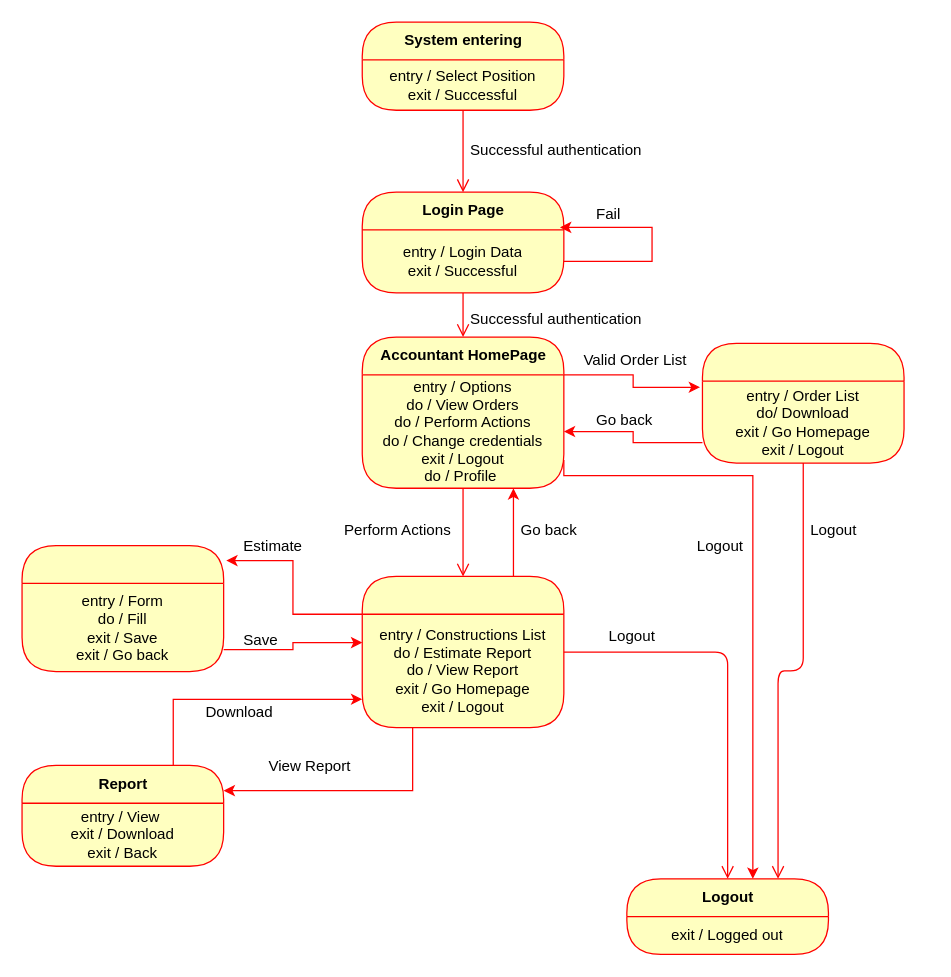
The diagram is 951 pixels wide and 977 high, and some of its shapes have lost their labels. The shapes that lost their labels are listed below. From the top down, each one's box as (x1, y1, x2, y2) in pixels, then its label:
(701, 342, 904, 463): Ordering List
(21, 544, 224, 672): Accounting
(361, 575, 564, 728): Actions
